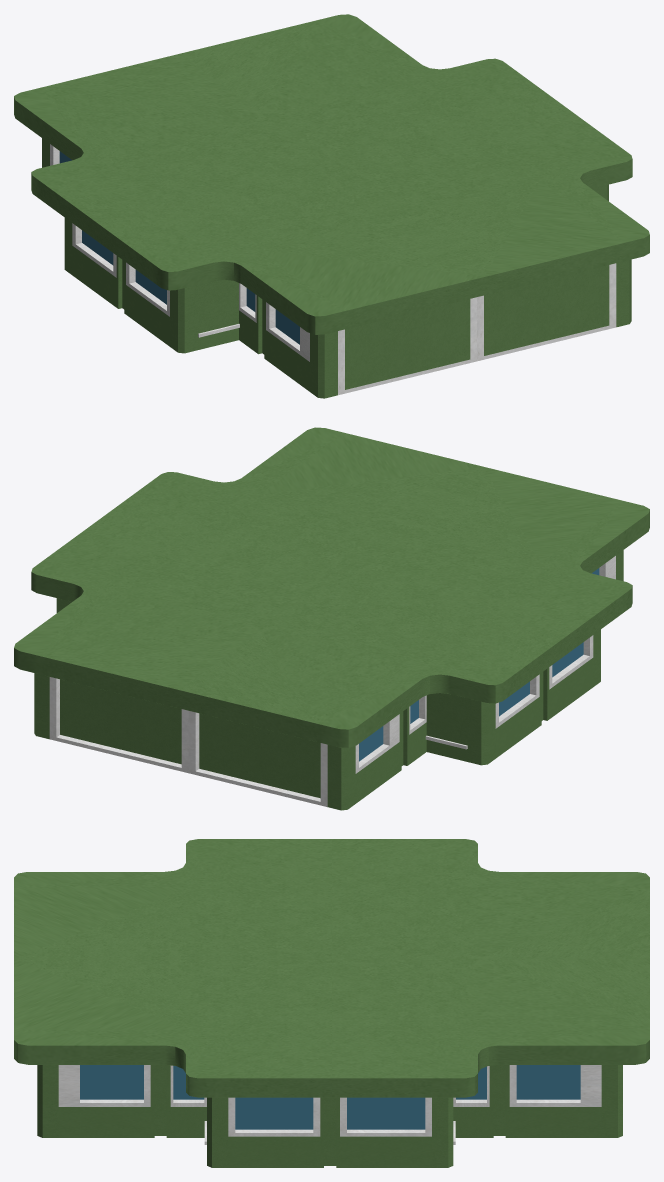
Rendered from HDBFloorDefault.fbx.
3 renders of one model, top to bottom at view 1: azimuth 30°, elevation 25°; view 2: azimuth 150°, elevation 25°; view 3: azimuth 270°, elevation 25°, orthographic. The views are drawn at different scales.
Visible parts, largest first — view 1: levelblock, HDB_OuterWall_Flat2, HDB_OuterWall_Flat1, HDB_SideWall_WithPillar3, HDB_Window_NearOuterWall3, HDB_Window3, HDB_Window4, HDB_Corner6, HDB_Corner7, HDB_SmallWindow_corner3, HDB_Corner8, HDB_MiddlePillar5; view 2: levelblock, HDB_OuterWall1, HDB_OuterWall2, HDB_SideWall_WithPillar2, HDB_Window_NearOuterWall2, HDB_Window3, HDB_Window4, HDB_Corner5, HDB_Corner4, HDB_SmallWindow_corner2, HDB_Corner2, HDB_MiddlePillar3 (+1 smaller); view 3: levelblock, HDB_Window_NearOuterWall1, HDB_Window_NearOuterWall4, HDB_Window2, HDB_Window1, HDB_SmallWindow_corner4, HDB_SmallWindow_corner1, HDB_Corner2, HDB_Corner8, HDB_Corner3, HDB_Corner1, HDB_MiddlePillar6 (+2 smaller).
Part boxes in pixels (x1,y1,x2,y2): levelblock: (14,14,649,334); HDB_OuterWall_Flat2: (477,263,616,361); HDB_OuterWall_Flat1: (338,297,476,395); HDB_SideWall_WithPillar3: (198,280,239,349); HDB_Window_NearOuterWall3: (266,302,309,391); HDB_Window3: (72,223,116,307); HDB_Window4: (126,262,169,346); HDB_Corner6: (170,285,197,353); HDB_Corner7: (310,331,337,398); HDB_SmallWindow_corner3: (239,283,256,352); HDB_Corner8: (616,259,631,327); HDB_MiddlePillar5: (256,295,265,359); levelblock: (14,427,649,747); HDB_OuterWall1: (49,677,188,773); HDB_OuterWall2: (188,711,327,806); HDB_SideWall_WithPillar2: (425,693,467,761); HDB_Window_NearOuterWall2: (355,714,399,803); HDB_Window3: (495,674,539,758); HDB_Window4: (549,635,593,718); HDB_Corner5: (467,698,495,765); HDB_Corner4: (327,745,355,810); HDB_SmallWindow_corner2: (409,695,426,764); HDB_Corner2: (34,673,49,739); HDB_MiddlePillar3: (399,707,409,771); levelblock: (14,839,649,1097); HDB_Window_NearOuterWall1: (509,1065,601,1137); HDB_Window_NearOuterWall4: (58,1065,150,1137); HDB_Window2: (228,1097,320,1167); HDB_Window1: (340,1097,431,1167); HDB_SmallWindow_corner4: (170,1065,206,1137); HDB_SmallWindow_corner1: (453,1066,489,1137); HDB_Corner2: (601,1065,622,1137); HDB_Corner8: (37,1065,58,1137); HDB_Corner3: (207,1097,228,1167); HDB_Corner1: (432,1097,453,1167); HDB_MiddlePillar6: (150,1065,170,1137).
Bounding box in the file's own units: 1635 × 311 × 1838.
Materials: 2 (2 with a texture image).
